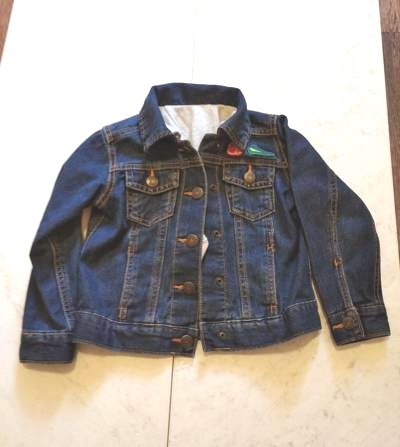Blazer: (11, 63, 383, 394)
